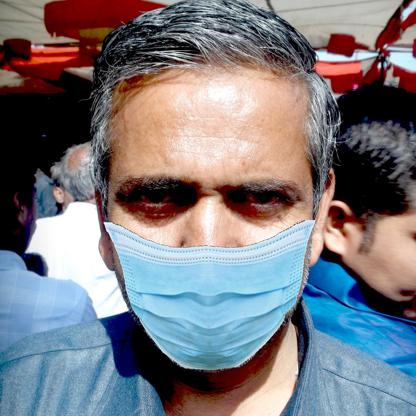mask: (100, 220, 314, 369)
